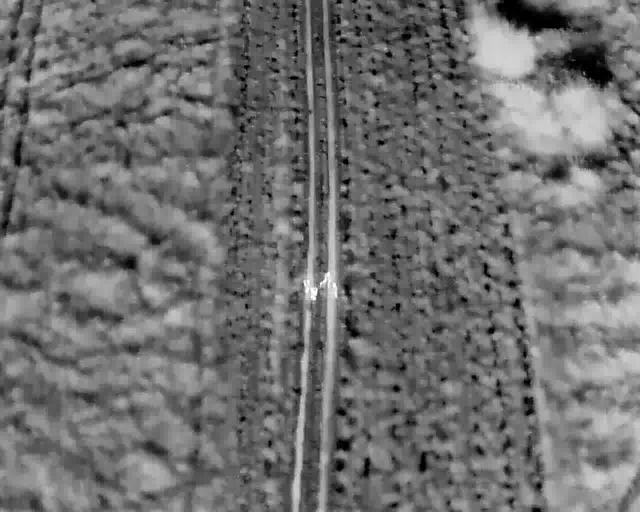person: (319, 269, 334, 288), (302, 276, 313, 297), (308, 284, 319, 303), (329, 282, 340, 299)
